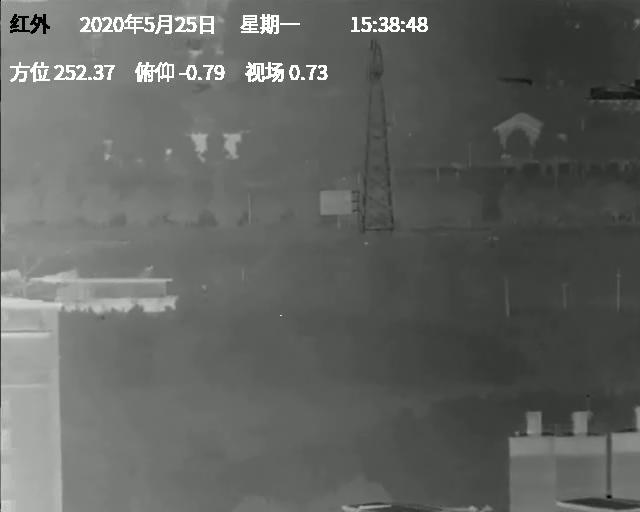uav: (363, 240, 371, 247)
